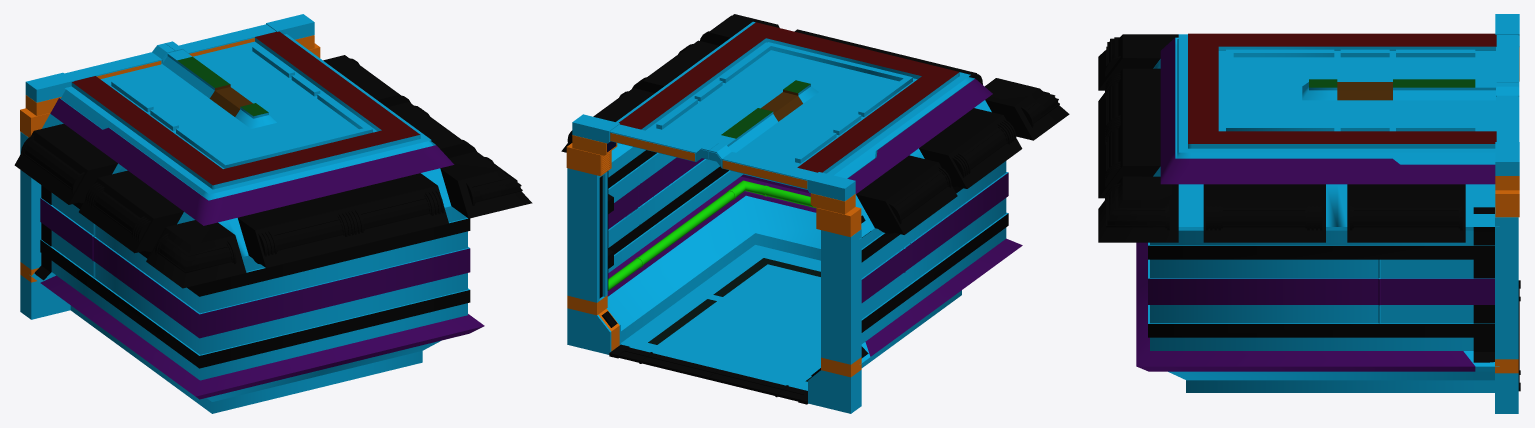
The model's file is sf_player.fbx.
3 renders of one model, left to right at view 1: azimuth 30°, elevation 25°; view 2: azimuth 150°, elevation 25°; view 3: azimuth 270°, elevation 25°, orthographic. The views are drawn at different scales.
Visible parts, largest first — view 1: Cylinder007; view 2: Cylinder007; view 3: Cylinder007.
Boxes of the visible parts, box(x1,y1,x2,y2) form: Cylinder007: box(14, 14, 532, 413); Cylinder007: box(561, 14, 1069, 413); Cylinder007: box(1098, 14, 1520, 413).
Size of the model in its own units: 87.58 by 55.98 by 83.92.
